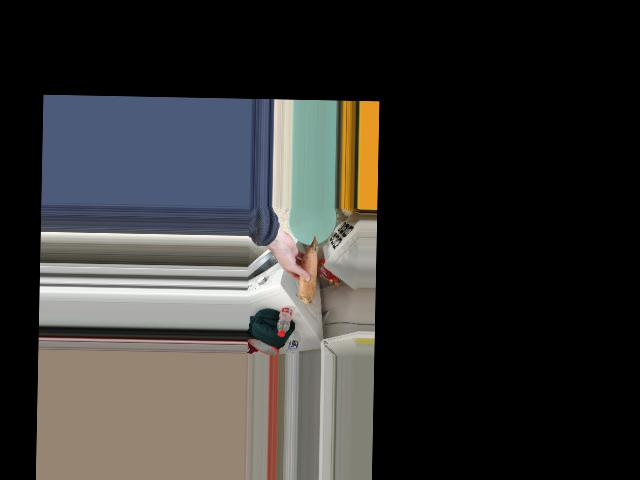sweet_potato: (294, 237, 317, 298)
